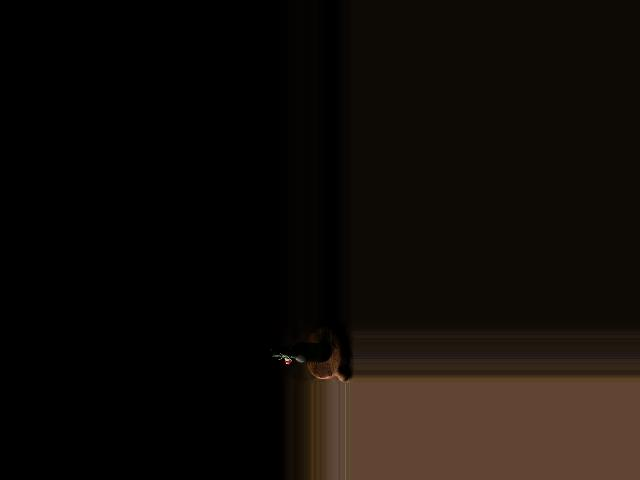beer: (269, 343, 328, 362)
